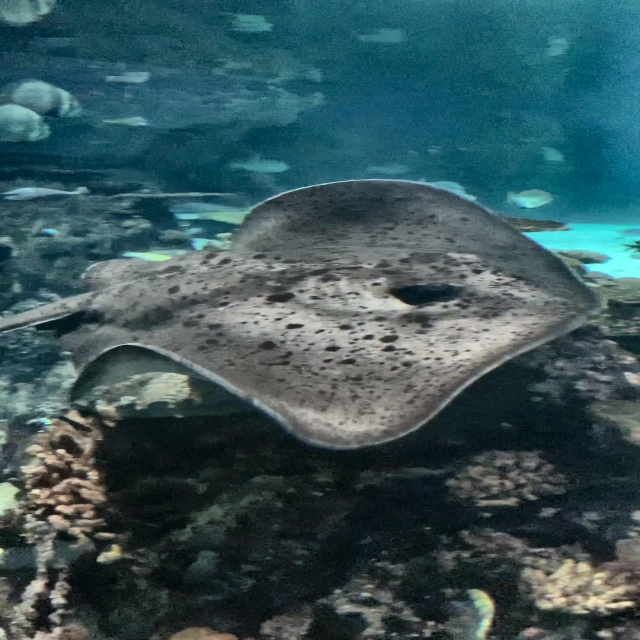fish: (0, 79, 84, 120), (0, 107, 54, 143), (0, 0, 58, 30), (0, 185, 91, 202), (222, 155, 294, 174), (504, 188, 556, 210)
stingray: (60, 179, 606, 452)
